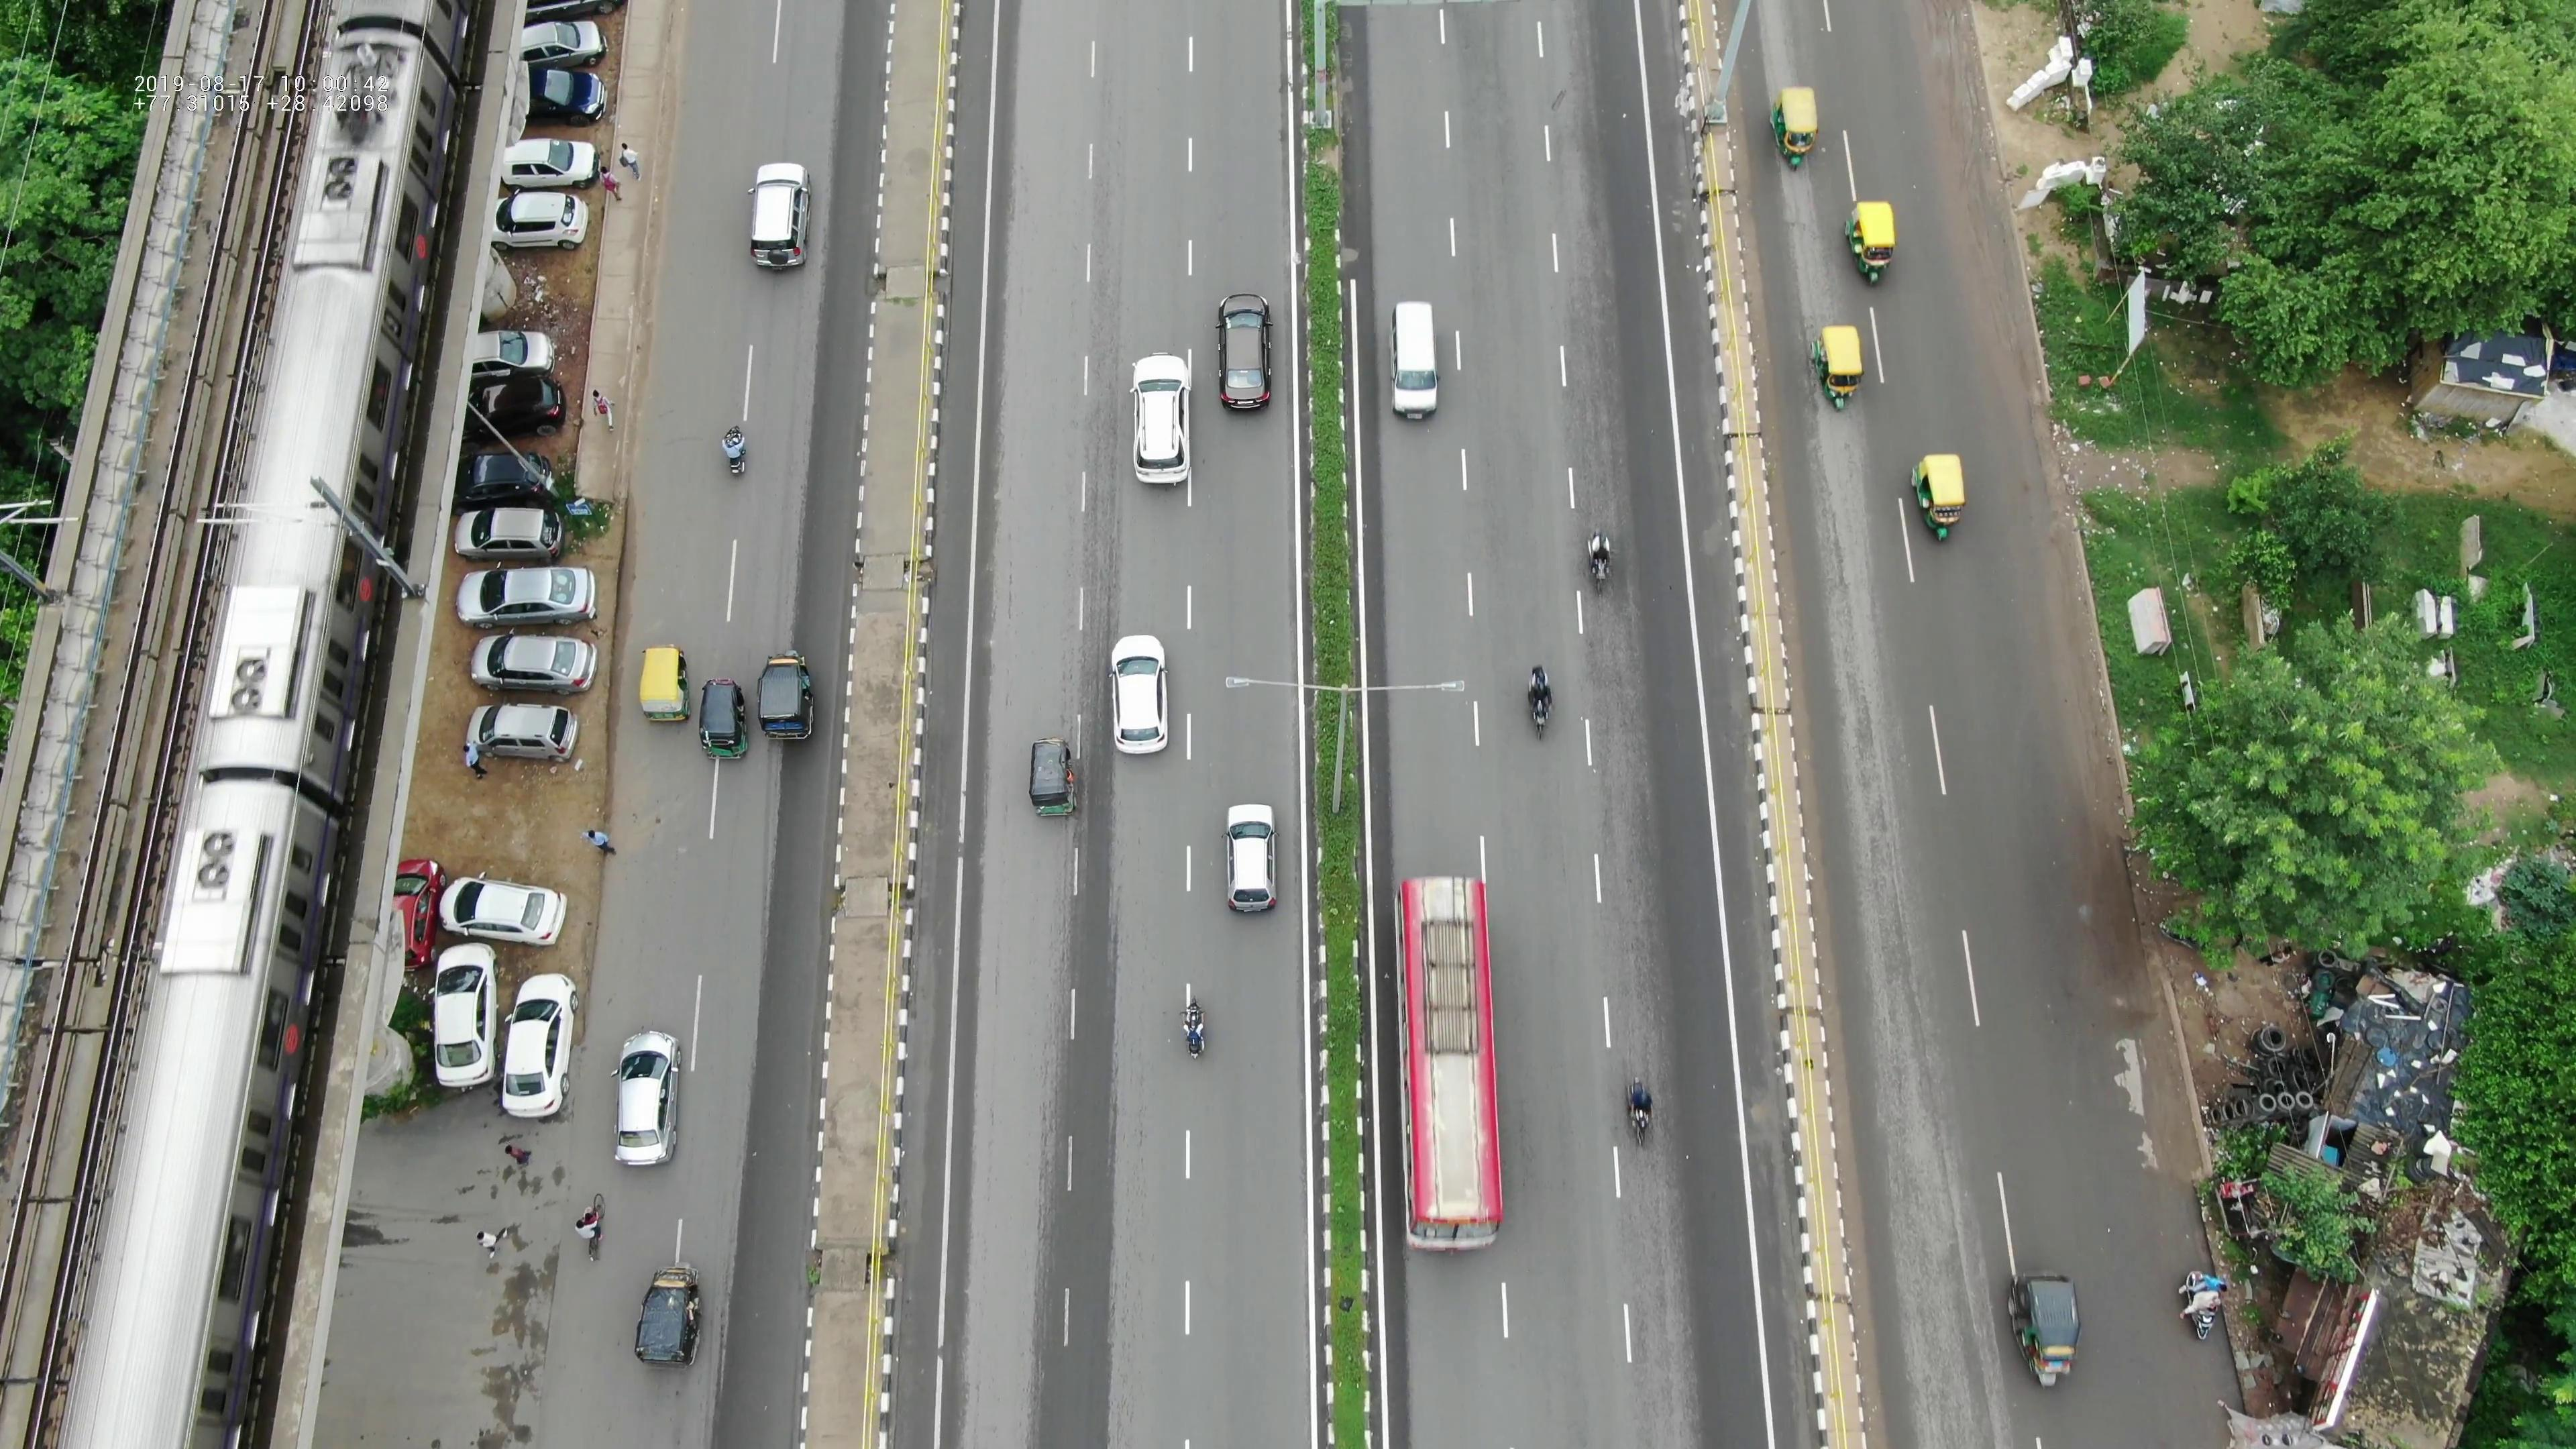Muddy_road: (1930, 71, 2019, 306)
